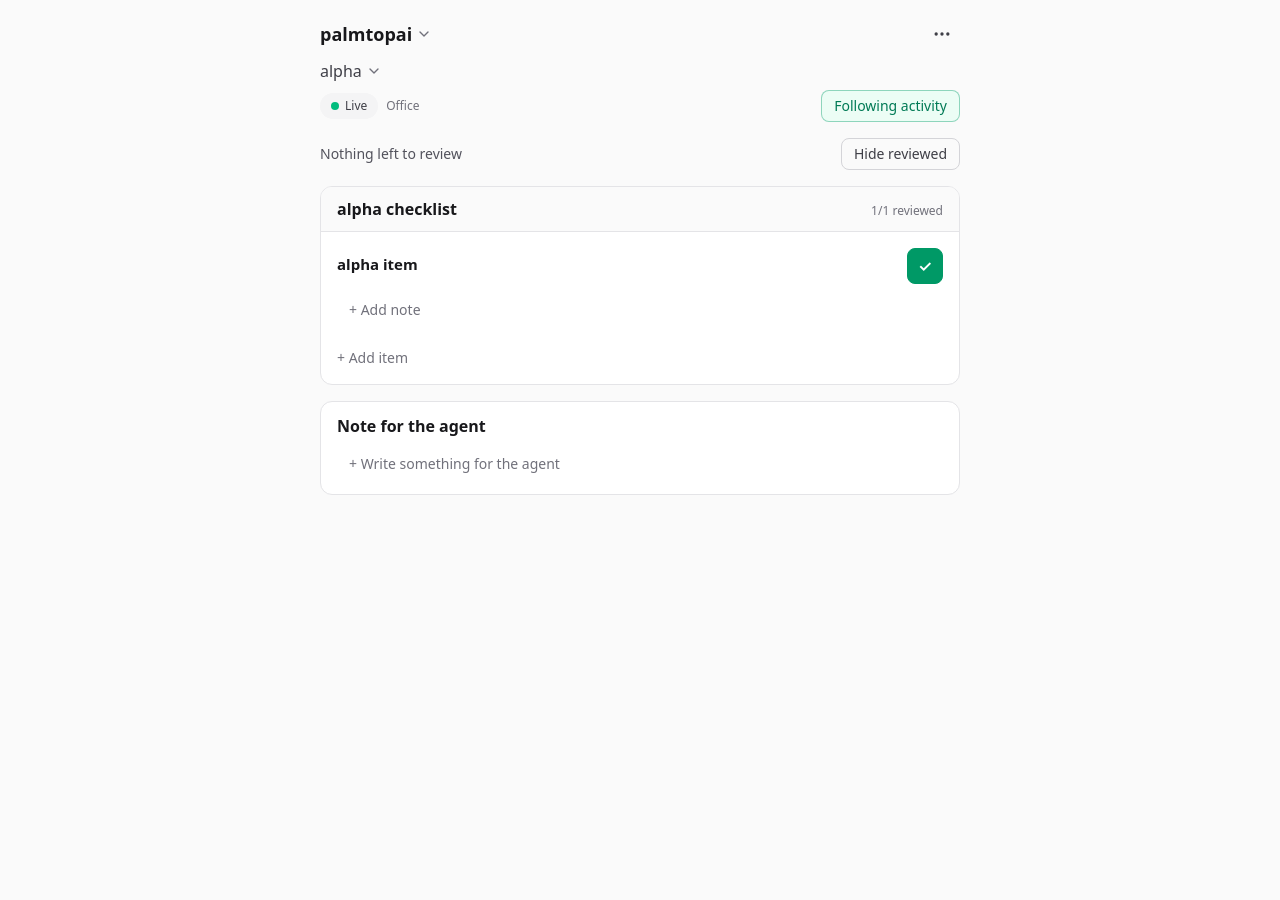
Scenario: ProjectView › the breadcrumb opens the sheet: projects of the computer, then sessions of the project
The width and height of the screenshot is (1280, 900).
Click the button with aria-label "Project palmtopai, change". click: (376, 34)
box: top-left (320, 22), bottom-right (432, 46)
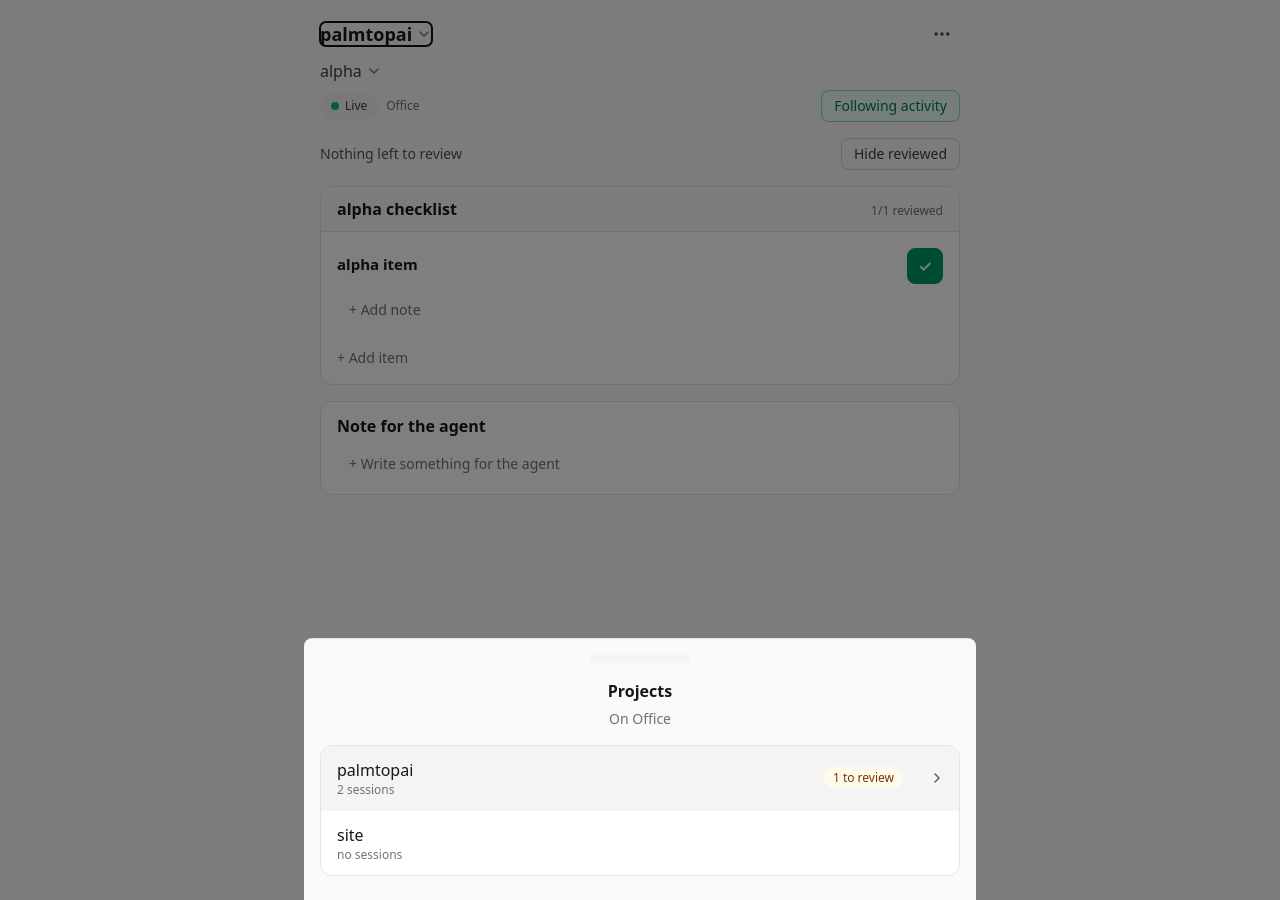
Expected: the text "On Office" is shown, top-left (609, 709), bottom-right (671, 729)
Expected: the text "2 sessions" is shown, top-left (337, 781), bottom-right (394, 798)
Expected: the text "1 to review" is shown, top-left (824, 767), bottom-right (903, 789)
One level down: the sessions of the open project, with their counts.
Click the button named "Sessions of palmtopai". click: (937, 778)
box: top-left (919, 760), bottom-right (955, 796)
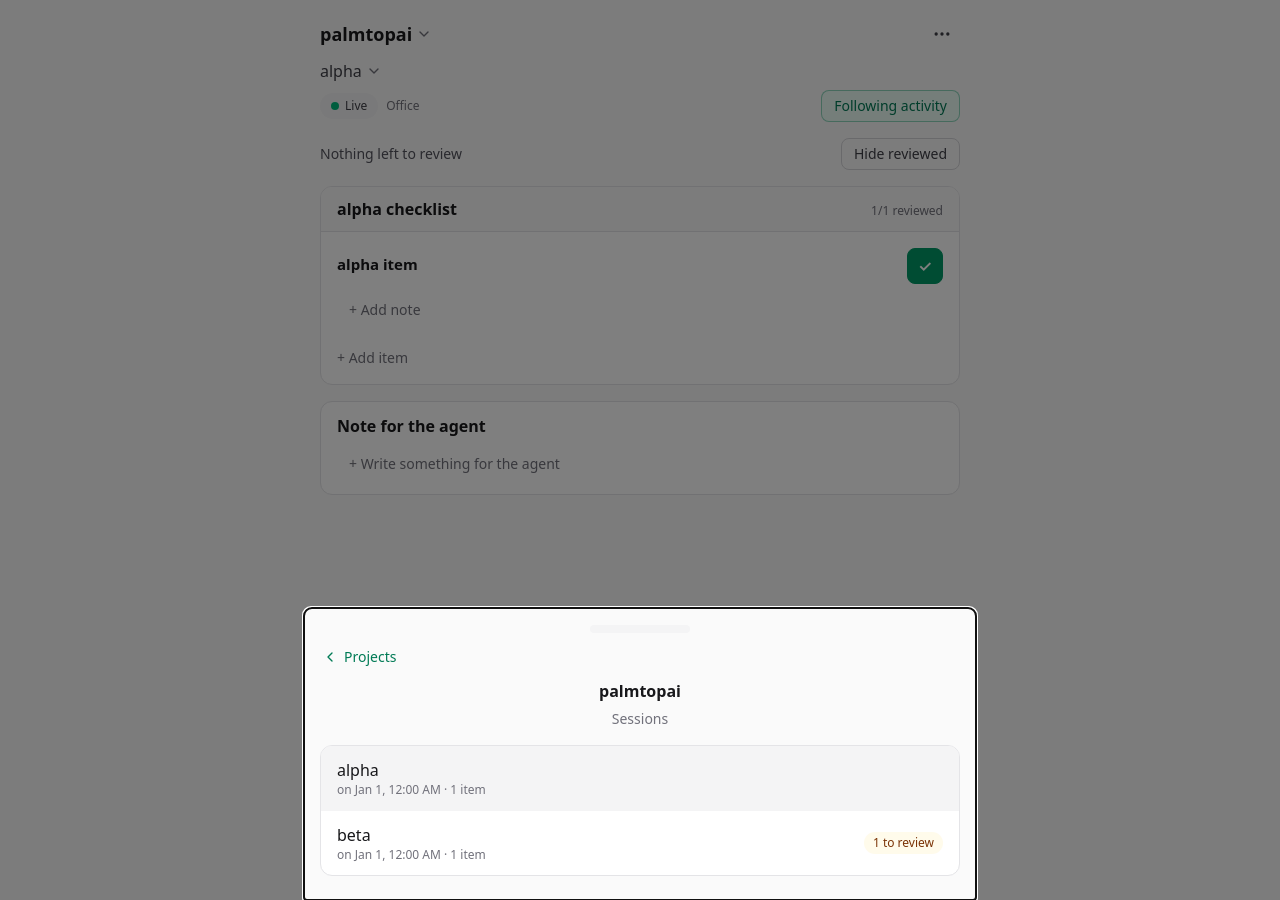
Expected: the text "1 to review" is shown, top-left (864, 832), bottom-right (943, 854)
Expected: the text "Sessions" is shown, top-left (612, 709), bottom-right (668, 729)
Expected: the button "alpha on Jan 1, 12:00 AM · 1 item" is shown, top-left (321, 746), bottom-right (959, 810)
Back up, and another project.
Click the button "Projects". click: (359, 657)
box: top-left (312, 641), bottom-right (406, 673)
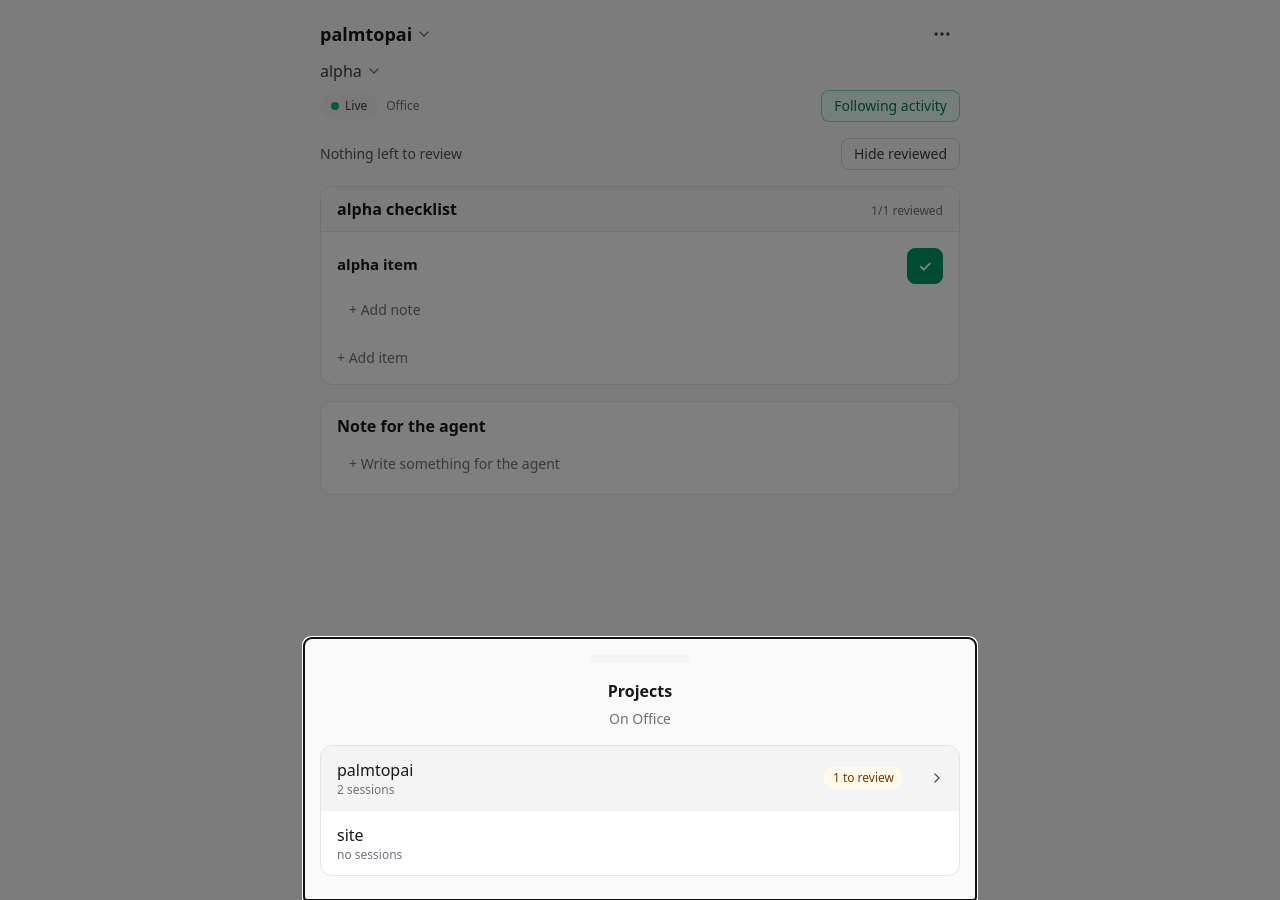
Click the button "site no sessions". click: (370, 854)
box: top-left (321, 811), bottom-right (959, 875)
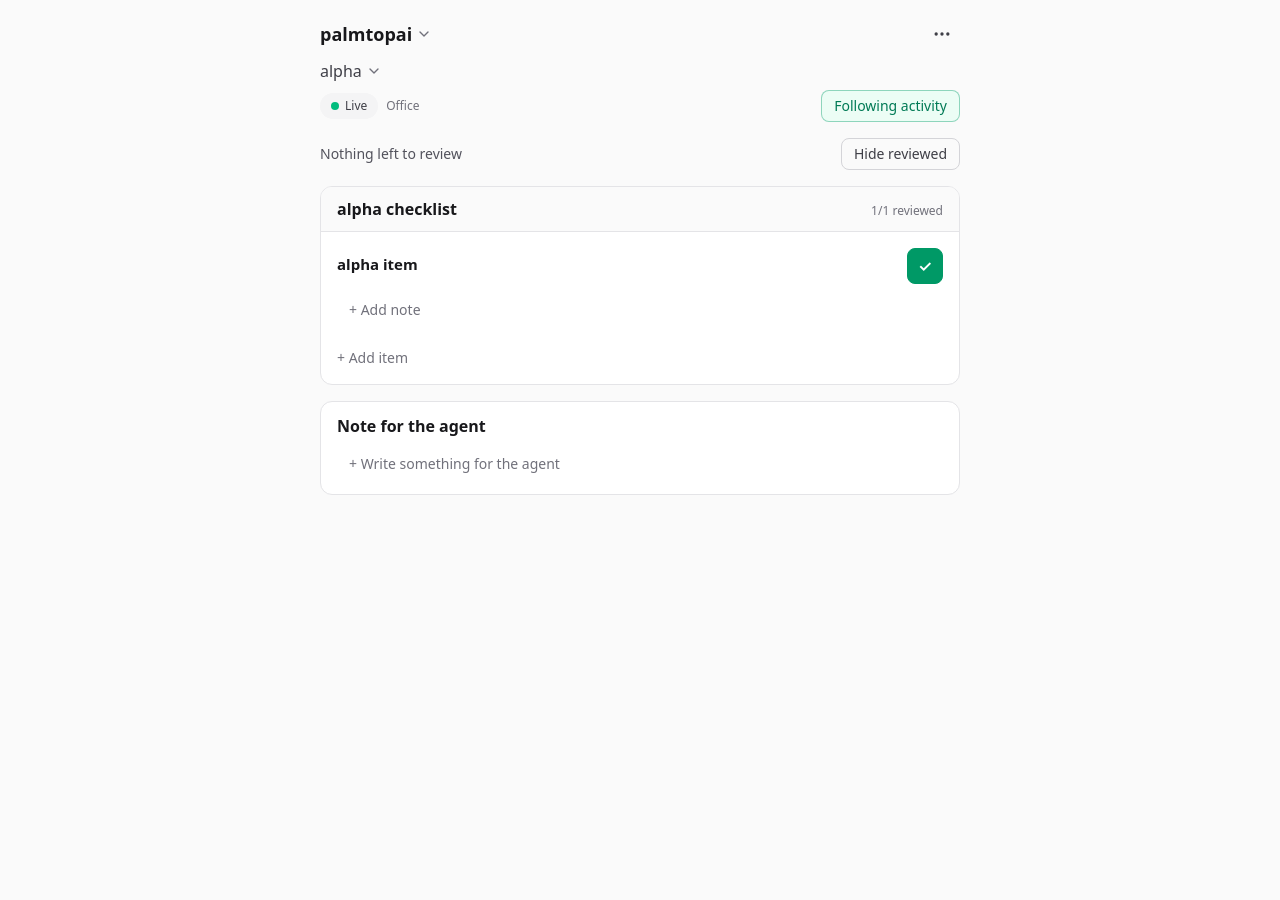
Expected: the dialog is gone
